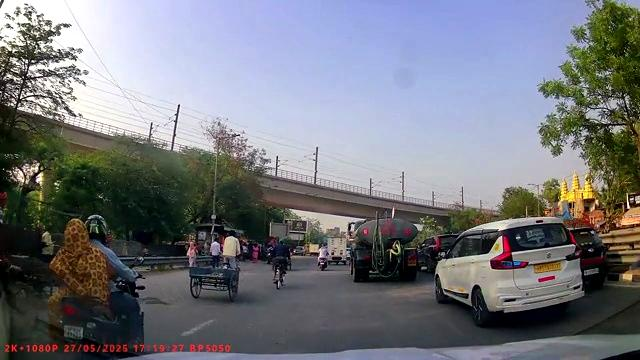passenger_without_helmet: (45, 213, 145, 345)
